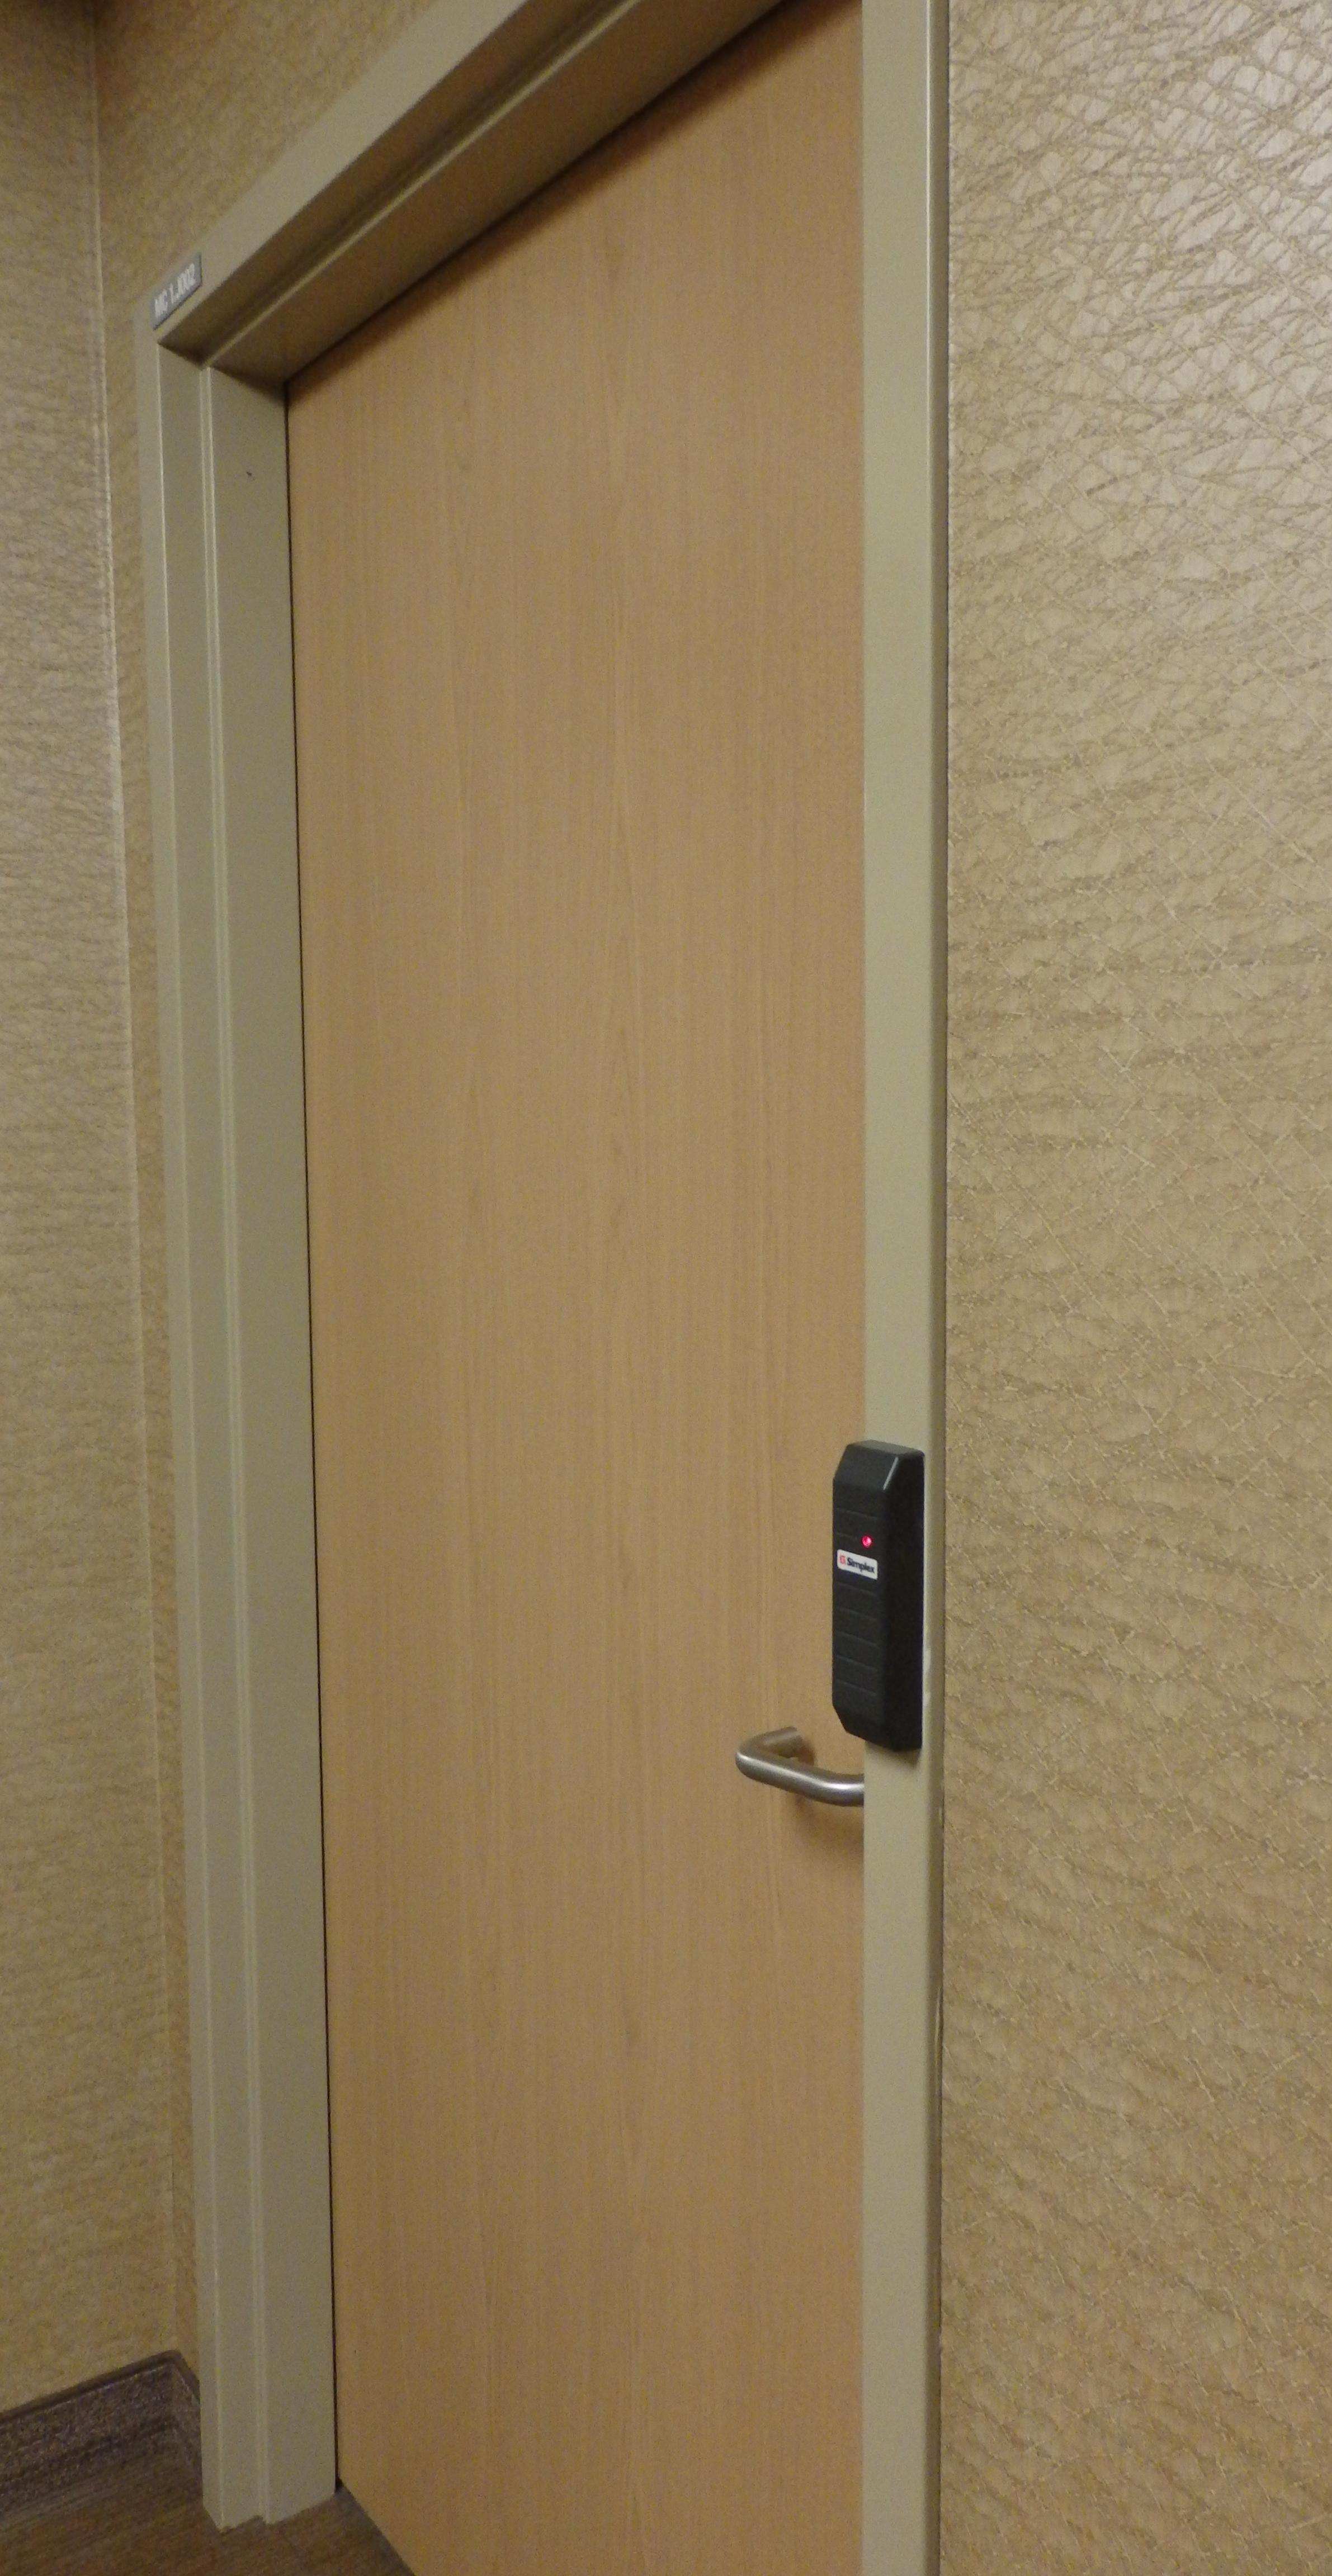door: (233, 8, 875, 2557)
